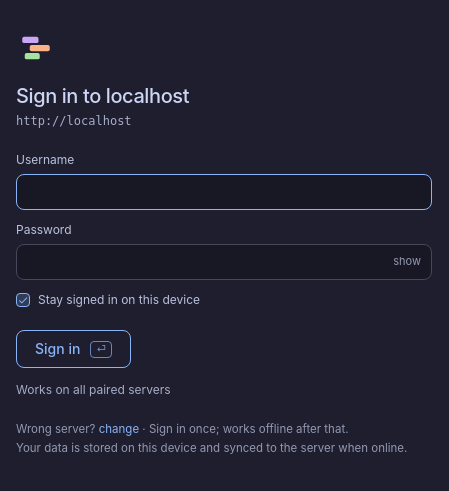
Test case: LoginPage (mocha) › wrong password: the red inline error, no conflict banner
The width and height of the screenshot is (449, 491).
Type "wochap" into the field labelled "Username" at (224, 192), box [17,175,431,209]
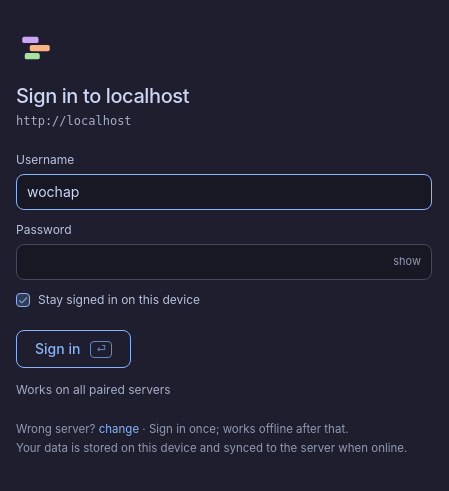
Type "wrong" into the password field labelled "Password" at (196, 262), box [17,244,375,278]
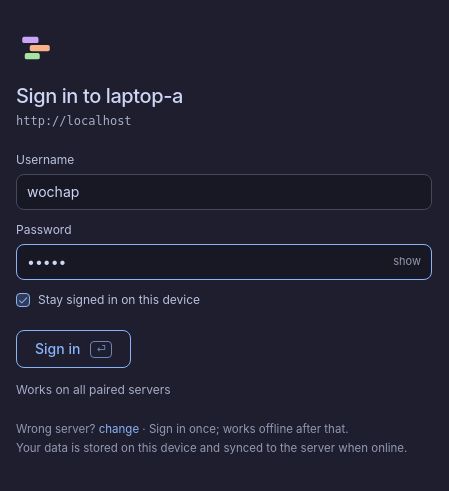
Click the button "Sign in ⏎" at (74, 349), box [16,330,131,368]
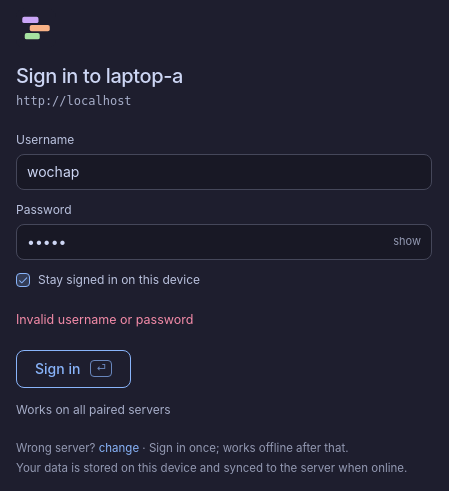
Expected: the button "Sign in ⏎" is enabled, [16,350,131,388]
Expected: the message reads "Invalid username or password", [16,312,194,326]
